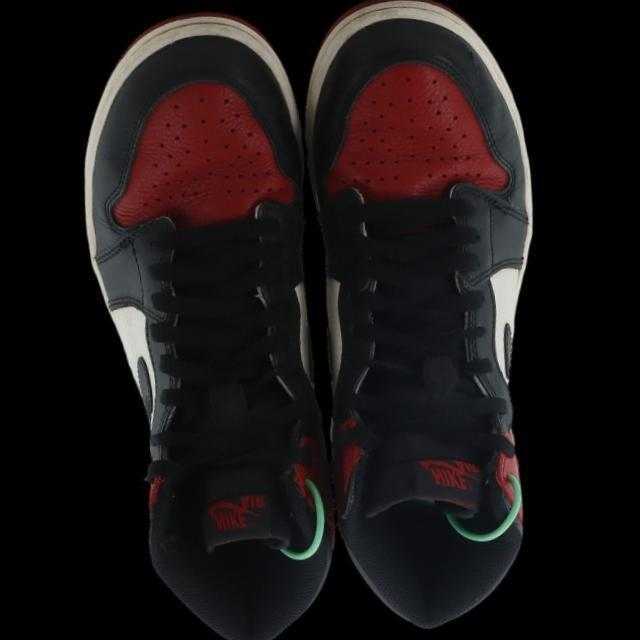nike original jordan 1: (59, 1, 360, 640), (285, 0, 582, 637)
